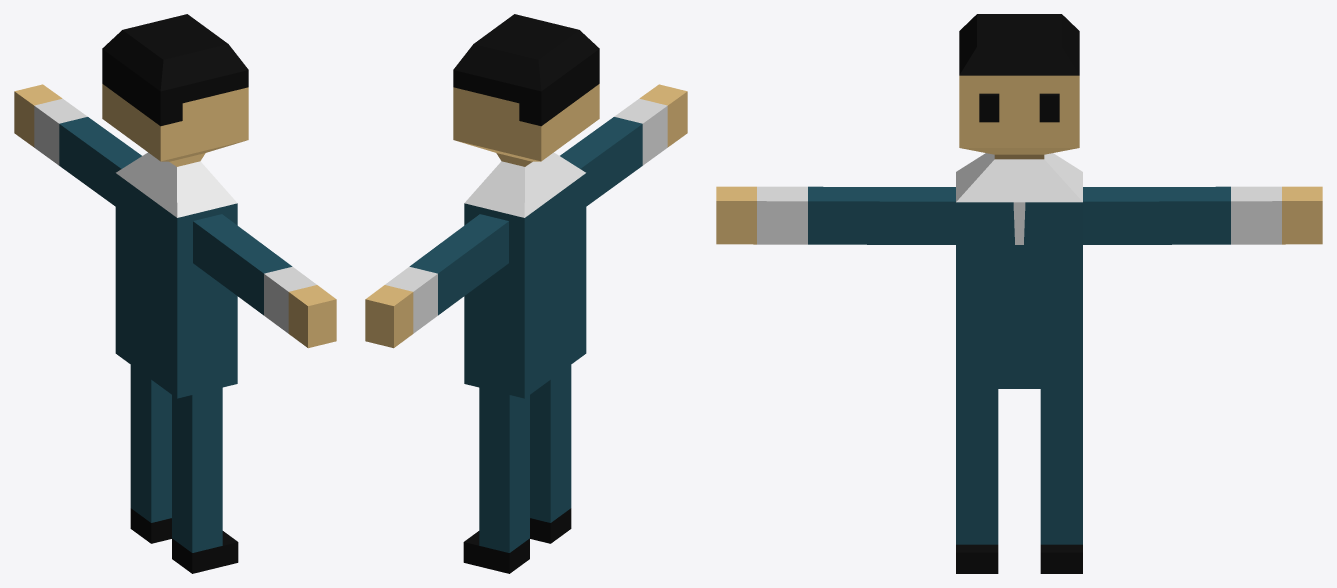
Rendered from Homem-azul.fbx.
3 renders of one model, left to right at view 1: azimuth 30°, elevation 25°; view 2: azimuth 150°, elevation 25°; view 3: azimuth 270°, elevation 25°, orthographic. The views are drawn at different scales.
Parts seen in each view (by area): view 1: Cube; view 2: Cube; view 3: Cube.
Part boxes in pixels (left/top/right/bottom): Cube: left=14, top=14, right=336, bottom=573; Cube: left=365, top=14, right=687, bottom=573; Cube: left=716, top=14, right=1322, bottom=573.
Size of the model in its own units: 208 by 1107 by 1153.
